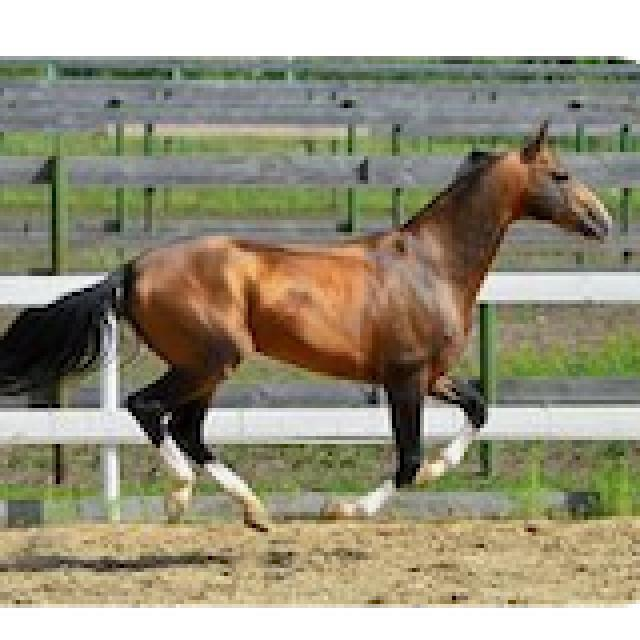Horse: (0, 112, 616, 532)
